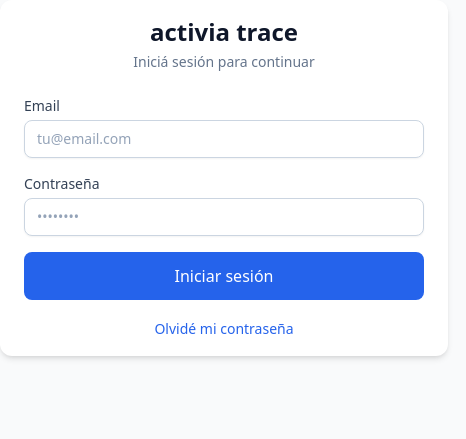
LoginPage › shows error message on failed login
This screenshot has width=466, height=439.
Check: the button "Iniciar sesión" is shown, box [24,252,424,300]
In the field labelled "Email": (224, 139) [24,120,424,158], type "user@test.com"
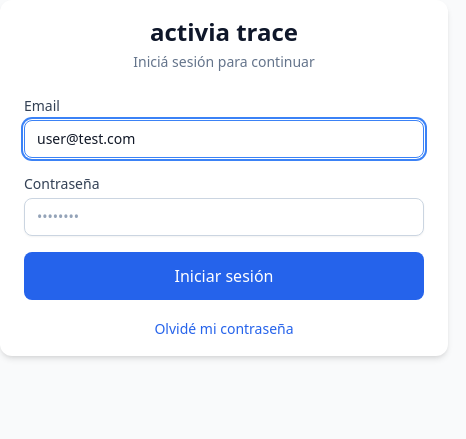
In the password field labelled "Contraseña": (224, 217) [24,198,424,236], type "wrong-password"
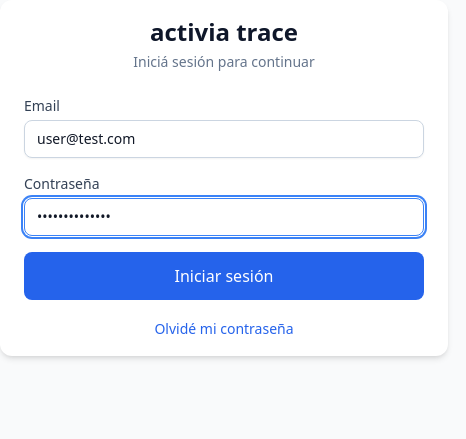
Click the button "Iniciar sesión": click(224, 276) [24,252,424,300]
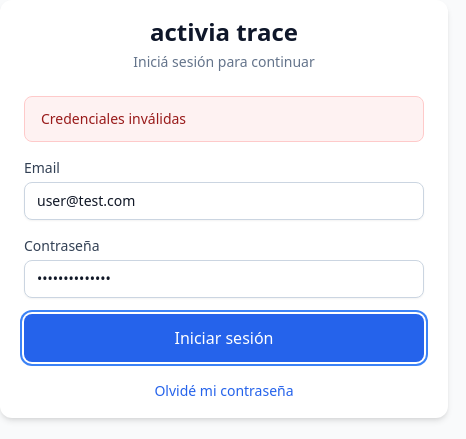
Check: the text "Credenciales inválidas" is shown, box [24,96,424,142]
